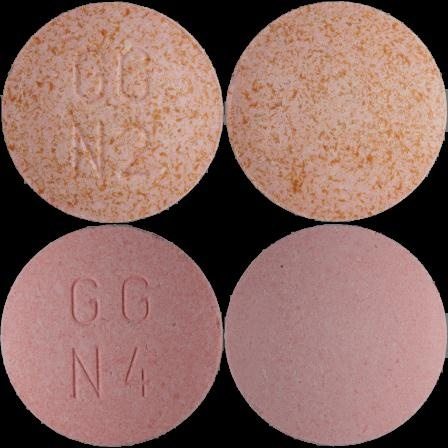0781-1619: (0, 0, 224, 224)
